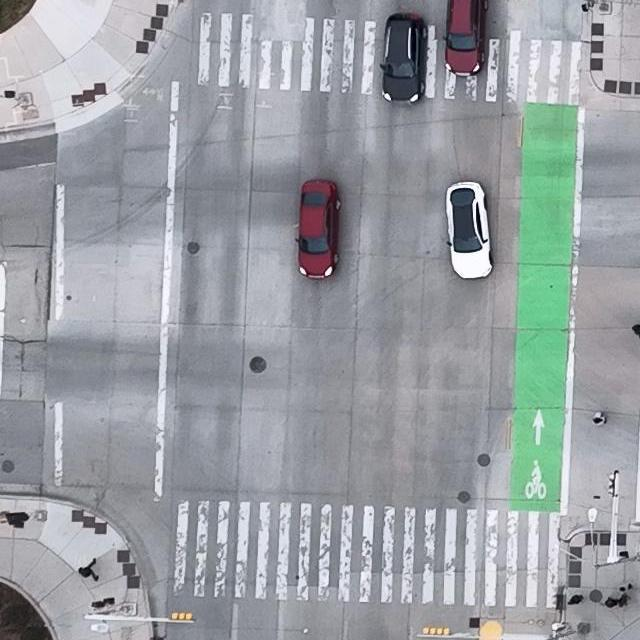car: (445, 181, 492, 280), (295, 181, 341, 280), (380, 14, 428, 105), (443, 0, 489, 77)
